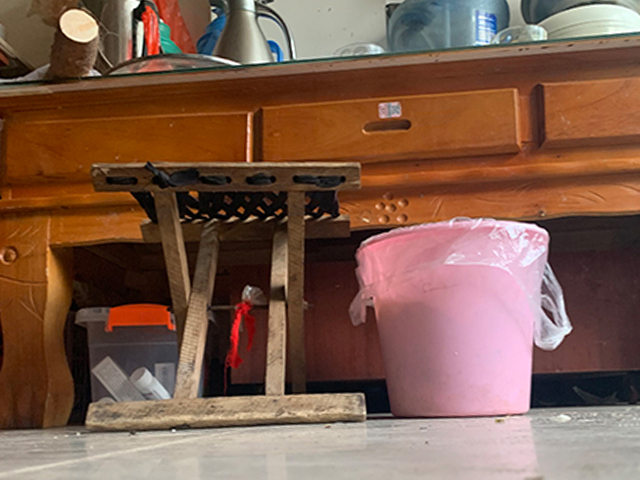stool: (84, 160, 366, 434)
table: (2, 29, 640, 431)
trashcan: (355, 218, 550, 419)
